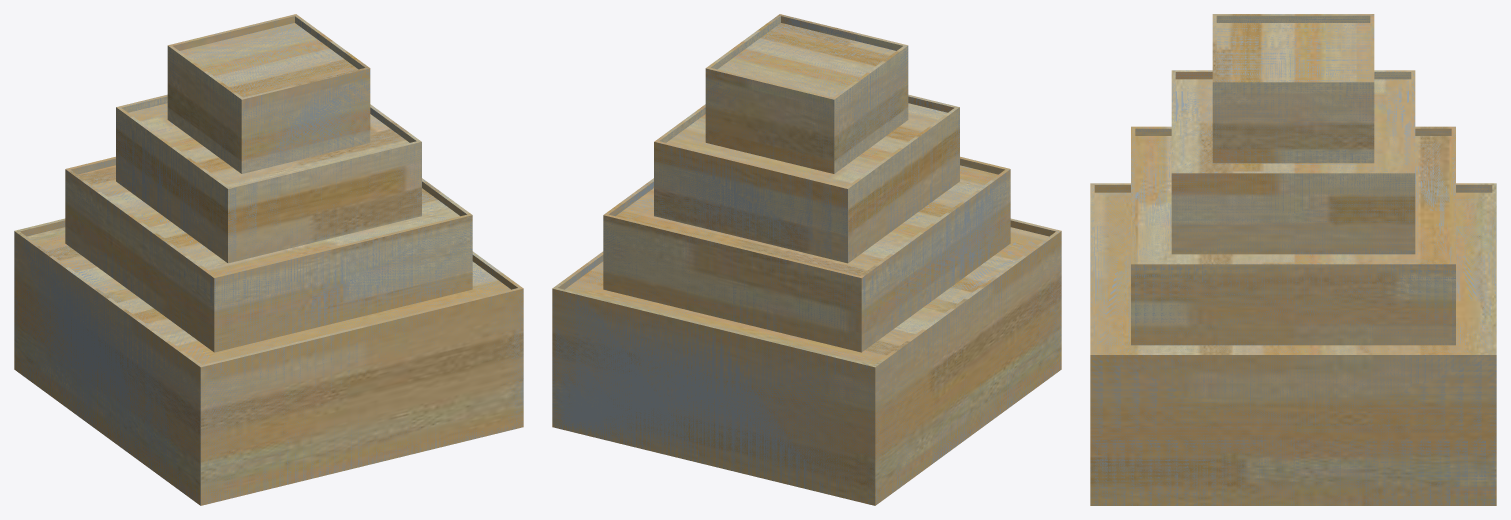
The model's file is squareShelf.fbx.
3 views of the same model, side by side, from view 1: azimuth 30°, elevation 25°; view 2: azimuth 150°, elevation 25°; view 3: azimuth 270°, elevation 25° (orthographic). The views are drawn at different scales.
Visible parts, largest first — view 1: Model; view 2: Model; view 3: Model.
Boxes of the visible parts, box(x1,y1,x2,y2) form: Model: box(14, 14, 523, 505); Model: box(552, 14, 1061, 505); Model: box(1090, 14, 1496, 505).
Bounding box in the file's own units: 1 × 1.01 × 1.
